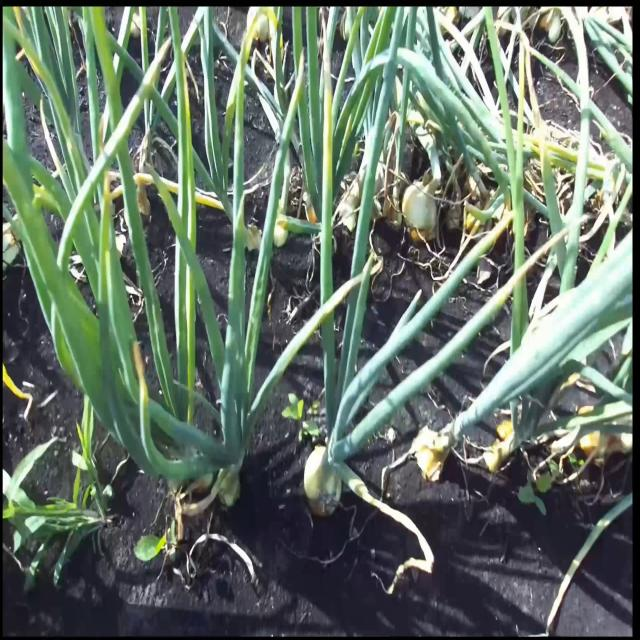onion: (304, 445, 342, 518), (401, 174, 438, 242), (412, 426, 448, 488), (273, 206, 291, 246)
